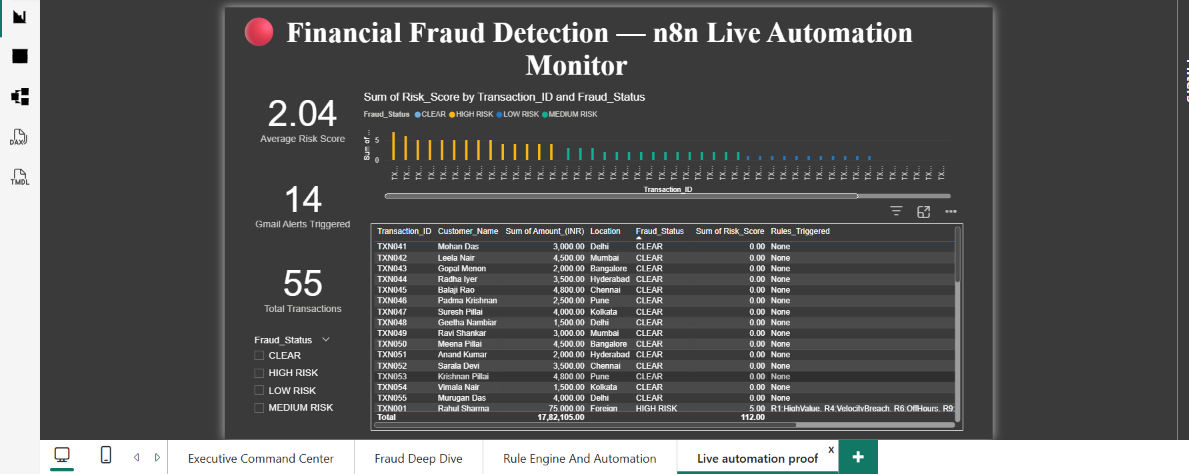

The dashboard page shown, as its layout file describes it:
{"tool":"powerbi","page":{"name":"Live automation proof ","canvas":[1280,720],"ordinal":3},"visuals":[{"type":"textbox","box":[10.5,0,1152.6,131.6],"z":0},{"type":"card","fields":{"Values":["Transaction_data.High Risk Count"]},"box":[0,231.7,260,183.3],"z":1000},{"type":"card","fields":{"Values":["Transaction_data.Total Transactions"]},"box":[0,371.7,260,185],"z":2000},{"type":"card","fields":{"Values":["Transaction_data.Average Risk Score"]},"box":[0,88.3,260,185],"z":3000},{"type":"clusteredColumnChart","fields":{"Category":["Transaction_data.Transaction_ID"],"Y":["Sum(Transaction_data.Risk_Score)"],"Series":["Transaction_data.Fraud_Status"]},"box":[226.7,138.3,988.3,185],"z":4001},{"type":"slicer","fields":{"Values":["Transaction_data.Fraud_Status"]},"box":[36.8,540.4,150.9,156.1],"z":4002},{"type":"tableEx","fields":{"Values":["Transaction_data.Transaction_ID","Transaction_data.Customer_Name","Sum(Transaction_data.Amount_(INR))","Transaction_data.Location","Transaction_data.Fraud_Status","Sum(Transaction_data.Risk_Score)","Transaction_data.Rules_Triggered"]},"box":[243.9,359.6,987.7,345.6],"z":4003}]}

Visuals, with their boxes on the page's 1280x720 design canvas (x1, y1, x2, y2). These are canvas units, not pixel positions in the 1189x475 screenshot, which may show the page scaled, cropped or inside an application window:
textbox: <bbox>10, 0, 1163, 132</bbox>
card - Transaction_data.High Risk Count: <bbox>0, 232, 260, 415</bbox>
card - Transaction_data.Total Transactions: <bbox>0, 372, 260, 557</bbox>
card - Transaction_data.Average Risk Score: <bbox>0, 88, 260, 273</bbox>
clusteredColumnChart - Transaction_data.Transaction_ID x Sum(Transaction_data.Risk_Score): <bbox>227, 138, 1215, 323</bbox>
slicer - Transaction_data.Fraud_Status: <bbox>37, 540, 188, 696</bbox>
tableEx - Transaction_data.Transaction_ID x Transaction_data.Customer_Name: <bbox>244, 360, 1232, 705</bbox>
